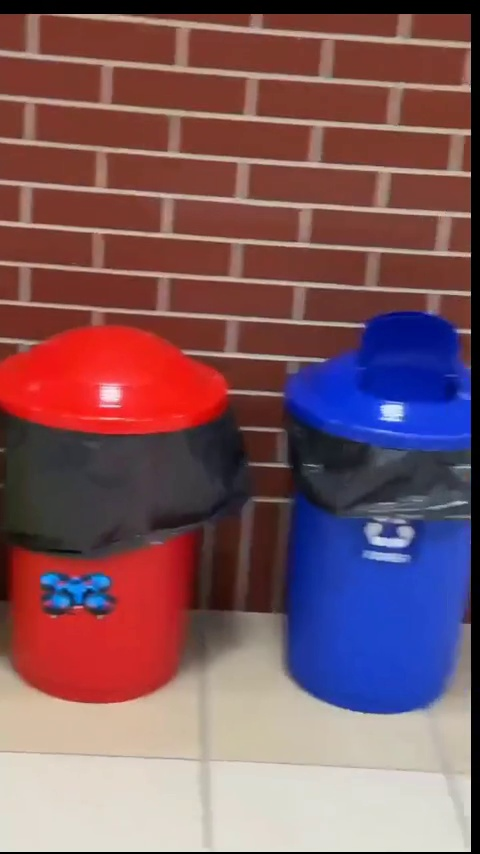drone: (39, 571, 115, 619)
